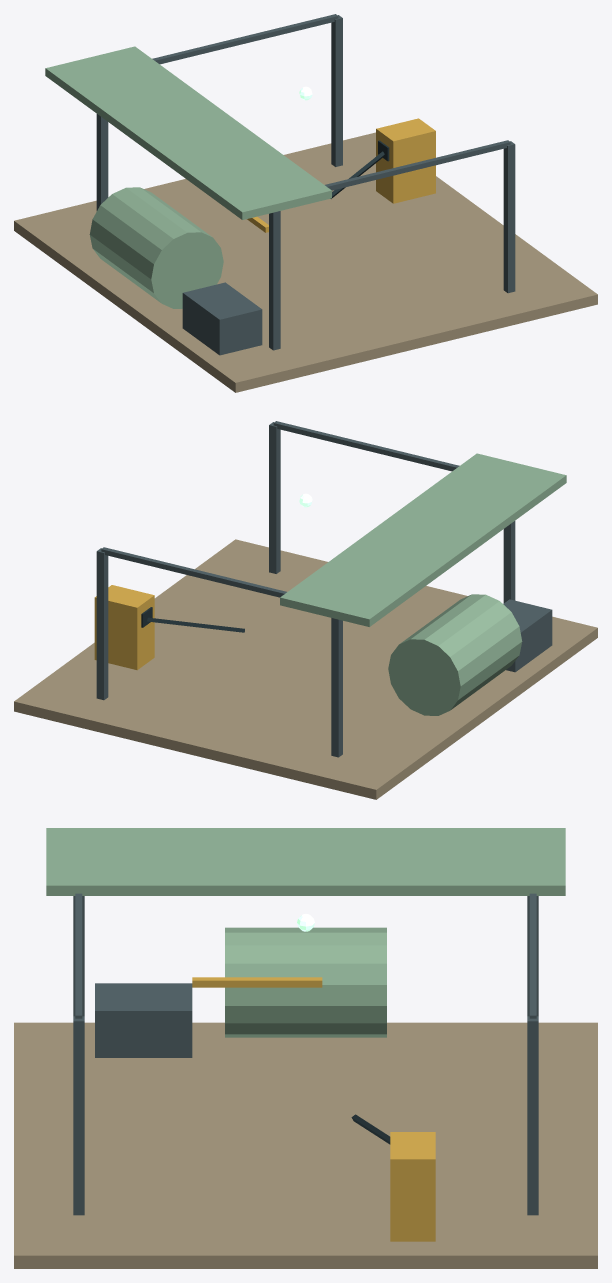
Rendered from fuel-optimized.glb.
The picture shows the model from 3 angles, top to bottom: view 1: azimuth 30°, elevation 25°; view 2: azimuth 150°, elevation 25°; view 3: azimuth 270°, elevation 25°; orthographic projection. The views are drawn at different scales.
Visible parts, largest first — view 1: fuel_material_5, fuel_material_4, fuel_material_3, fuel_material_2; view 2: fuel_material_5, fuel_material_4, fuel_material_3, fuel_material_2, fuel_material_1; view 3: fuel_material_5, fuel_material_4, fuel_material_3, fuel_material_2.
Boxes of the visible parts, x1=… form: fuel_material_5: x1=14, y1=132, x2=597, y2=392; fuel_material_4: x1=45, y1=46, x2=331, y2=308; fuel_material_3: x1=96, y1=14, x2=515, y2=355; fuel_material_2: x1=247, y1=118, x2=435, y2=232; fuel_material_5: x1=14, y1=539, x2=597, y2=799; fuel_material_4: x1=280, y1=453, x2=566, y2=715; fuel_material_3: x1=96, y1=421, x2=552, y2=757; fuel_material_2: x1=94, y1=585, x2=154, y2=670; fuel_material_1: x1=141, y1=607, x2=244, y2=632; fuel_material_5: x1=14, y1=1022, x2=597, y2=1268; fuel_material_4: x1=46, y1=828, x2=565, y2=1037; fuel_material_3: x1=73, y1=893, x2=538, y2=1215; fuel_material_2: x1=192, y1=977, x2=435, y2=1241.
Size of the model in its own units: 17.2 by 8.08 by 18.
